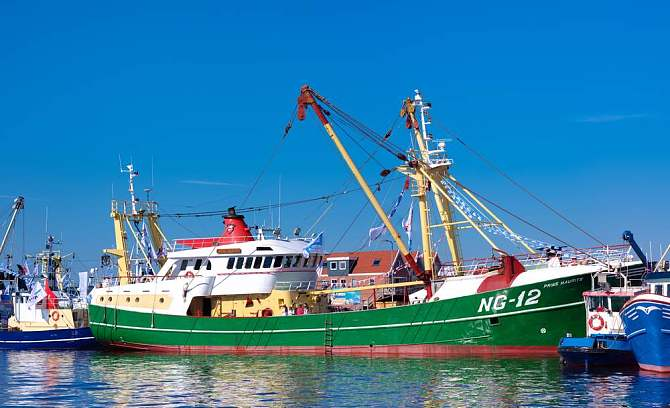otherboat: (74, 135, 651, 360), (535, 272, 656, 382), (1, 243, 108, 356)
